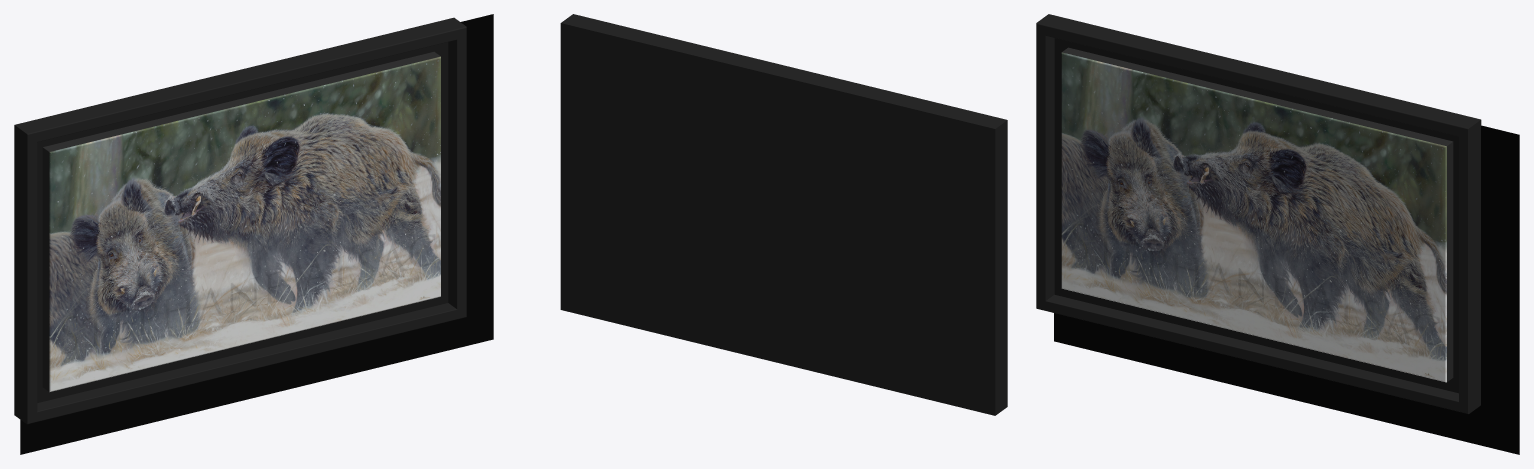
File: tableau-peinture-sangliers-neige-classique-66e821f9.glb
3 renders of one model, left to right at view 1: azimuth 30°, elevation 25°; view 2: azimuth 150°, elevation 25°; view 3: azimuth 330°, elevation 25°, orthographic.
Parts seen in each view (by area): view 1: Painting; view 2: Painting; view 3: Painting.
Part boxes in pixels (x1,y1,x2,y2): Painting: [14, 14, 493, 454]; Painting: [560, 14, 1007, 415]; Painting: [1036, 14, 1519, 454].
Bounding box in the file's own units: 0.856 × 0.566 × 0.04.
5 materials, 3 textured.
